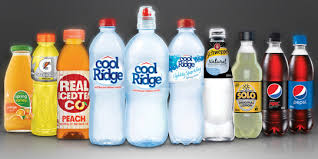not-coke: (205, 26, 315, 150)
